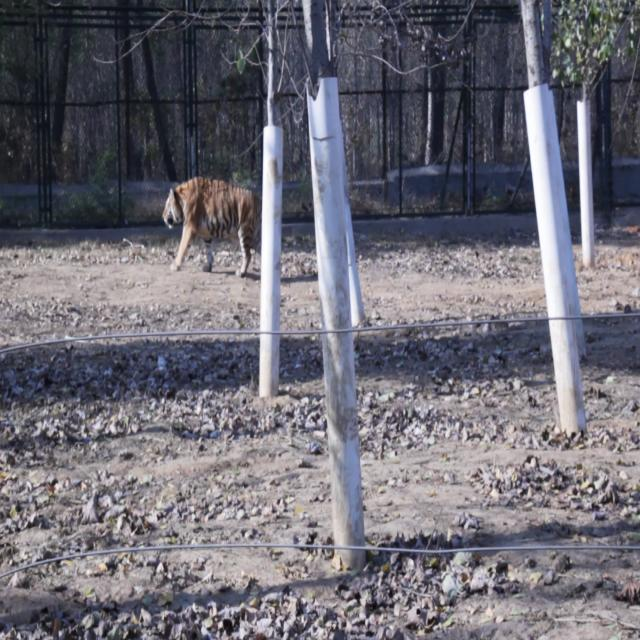Tiger: (158, 165, 261, 283)
